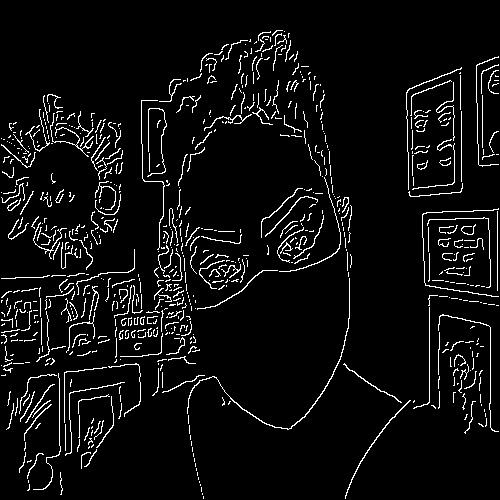mask: (179, 233, 398, 436)
